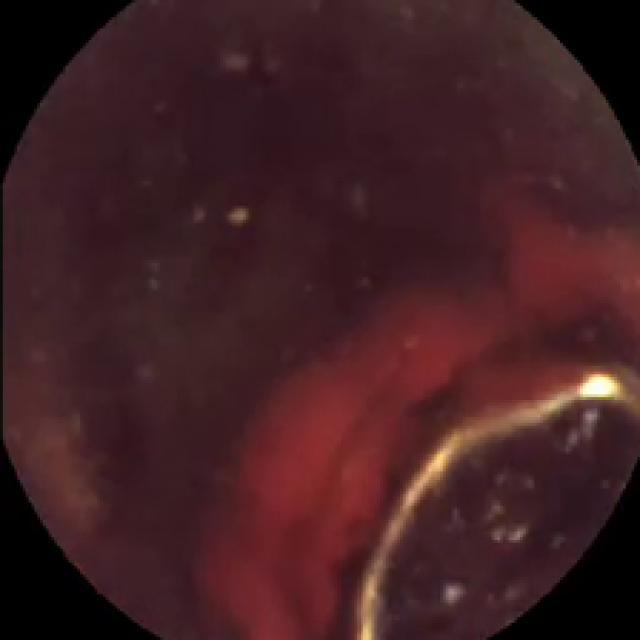bleeding: (188, 223, 640, 640)
